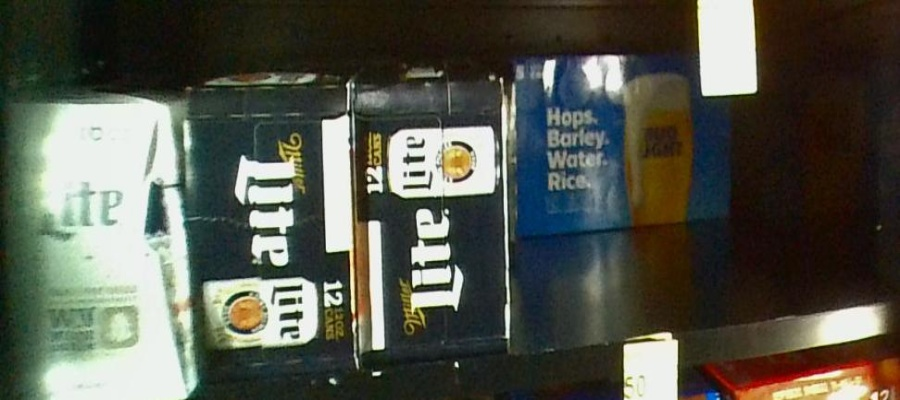bottle: (2, 92, 199, 392), (191, 82, 357, 377), (356, 80, 509, 358), (512, 52, 734, 227)
